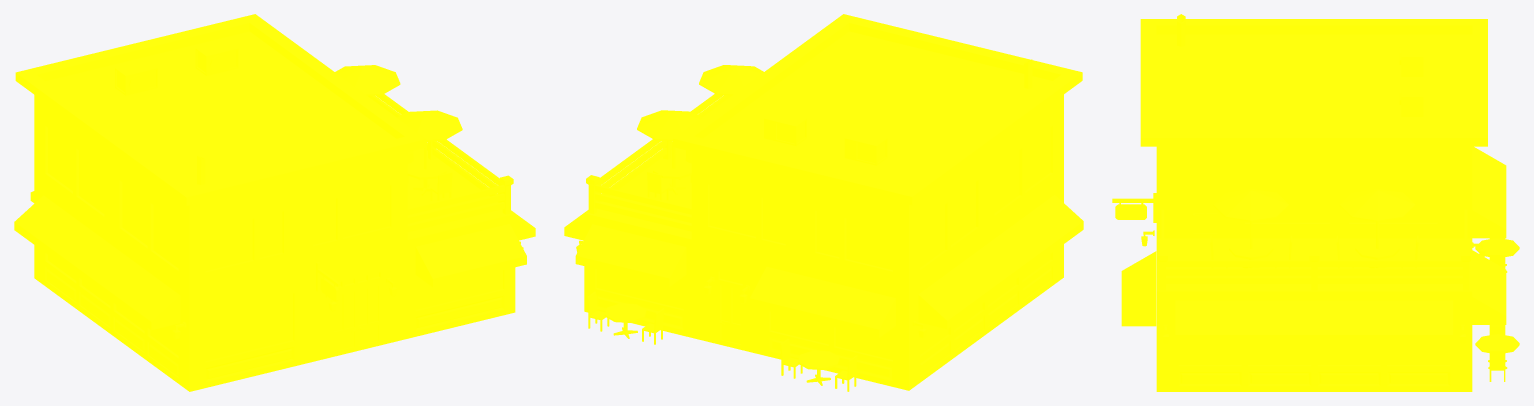
The model's file is building-restaurant.glb.
3 renders of one model, left to right at view 1: azimuth 30°, elevation 25°; view 2: azimuth 150°, elevation 25°; view 3: azimuth 270°, elevation 25°, orthographic.
Parts seen in each view (by area): view 1: building-restaurant; view 2: building-restaurant; view 3: building-restaurant.
Boxes of the visible parts, x1,y1,x2,y2 form: building-restaurant: [14, 14, 535, 391]; building-restaurant: [564, 14, 1083, 391]; building-restaurant: [1112, 14, 1519, 391].
Size of the model in its own units: 14.28 by 7.9 by 12.9.
Materials: 1 (1 with a texture image).
